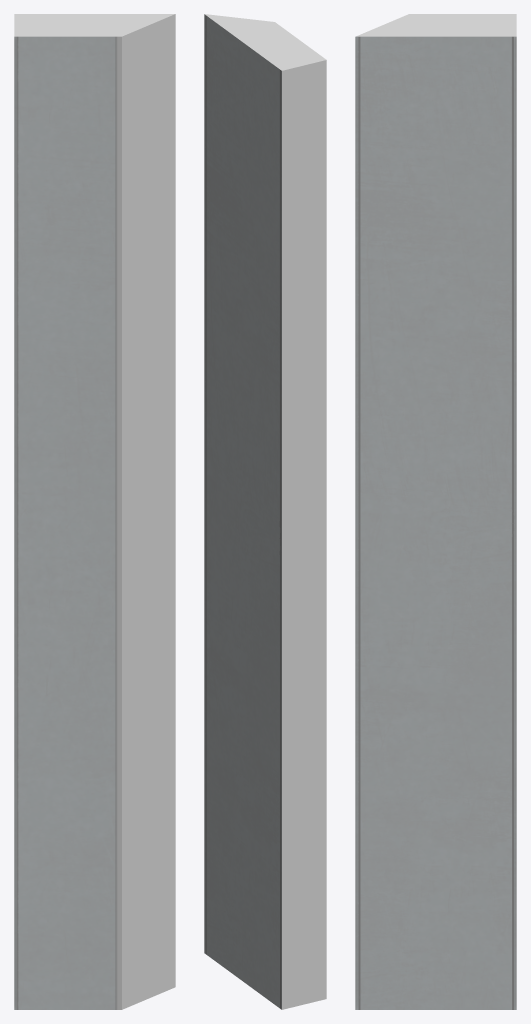
The model's file is Bld_Corner_01_R.fbx.
3 renders of one model, left to right at view 1: azimuth 90°, elevation 25°; view 2: azimuth 210°, elevation 25°; view 3: azimuth 270°, elevation 25°, orthographic. The views are drawn at different scales.
Parts seen in each view (by area): view 1: Bld_Corner_01_R; view 2: Bld_Corner_01_R; view 3: Bld_Corner_01_R.
Part boxes in pixels (x1,y1,x2,y2): Bld_Corner_01_R: [14, 14, 175, 1009]; Bld_Corner_01_R: [204, 14, 326, 1009]; Bld_Corner_01_R: [355, 14, 516, 1009].
Size of the model in its own units: 0.2 by 4 by 0.6.
Materials: 1 (1 with a texture image).
